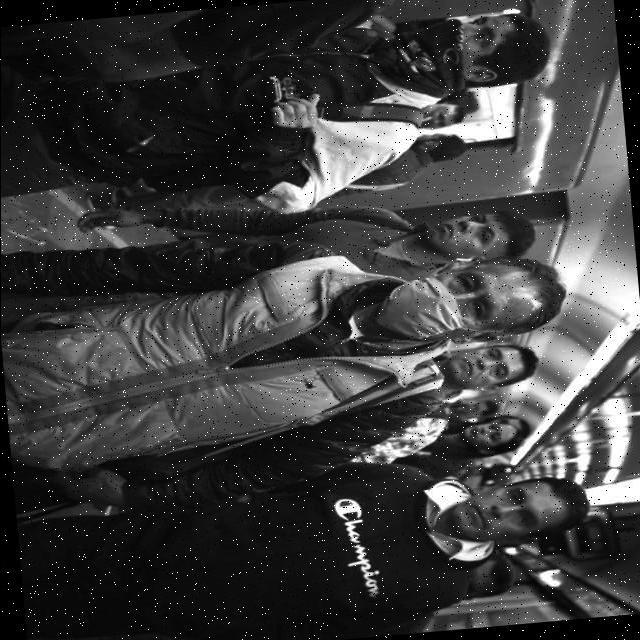mask: (392, 269, 450, 351)
no_gloves: (511, 254, 574, 330), (497, 4, 553, 80), (545, 460, 584, 530), (499, 336, 544, 394), (496, 203, 536, 260), (502, 403, 540, 439)
no_hairnet: (446, 494, 510, 540), (418, 22, 470, 78), (423, 209, 475, 257), (451, 352, 486, 384), (462, 420, 500, 442)
